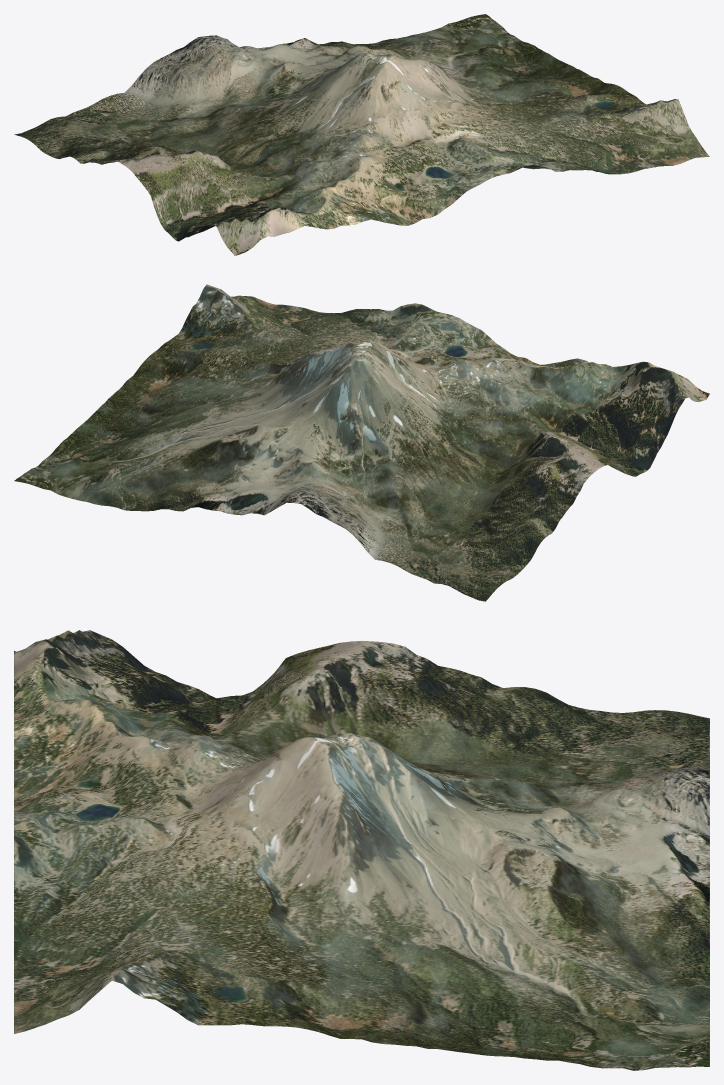
The model's file is mountain-high.glb.
3 views of the same model, one above another, from view 1: azimuth 30°, elevation 25°; view 2: azimuth 150°, elevation 25°; view 3: azimuth 270°, elevation 25° (orthographic). The views are drawn at different scales.
Visible parts, largest first — view 1: Object_2; view 2: Object_2; view 3: Object_2.
Part boxes in pixels (left/top/right/bottom): Object_2: left=14, top=14, right=709, bottom=255; Object_2: left=14, top=284, right=709, bottom=601; Object_2: left=14, top=630, right=709, bottom=1070.
Size of the model in its own units: 10395 by 2252 by 8561.
1 material, 1 textured.
